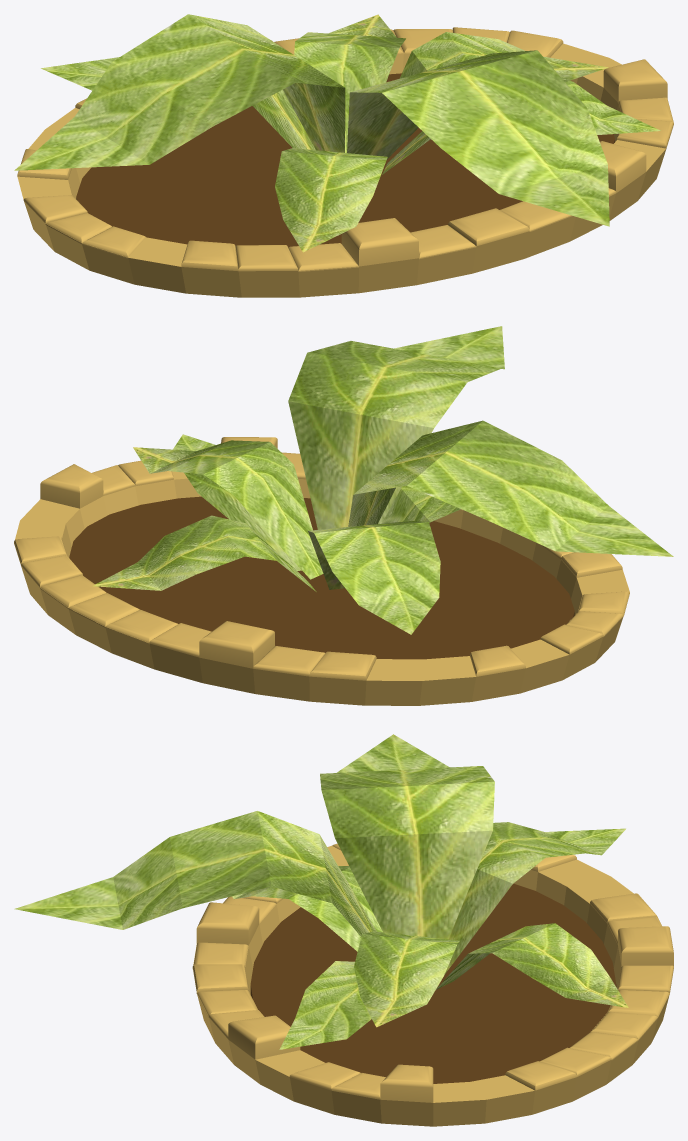
The model's file is green.fbx.
The picture shows the model from 3 angles, top to bottom: view 1: azimuth 30°, elevation 25°; view 2: azimuth 150°, elevation 25°; view 3: azimuth 270°, elevation 25°; orthographic projection. The views are drawn at different scales.
Visible parts, largest first — view 1: green, WALL, Circle; view 2: green, WALL, Circle; view 3: green, WALL, Circle.
Boxes of the visible parts, x1,y1,x2,y2 form: green: (14, 14, 660, 252); WALL: (17, 27, 673, 297); Circle: (76, 73, 614, 247); green: (92, 326, 673, 634); WALL: (14, 437, 629, 705); Circle: (69, 496, 574, 659); green: (14, 734, 628, 1049); WALL: (192, 843, 673, 1126); Circle: (250, 883, 616, 1083).
Size of the model in its own units: 126 by 34.59 by 120.
